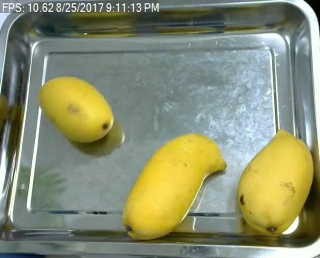Mango: (120, 133, 226, 243), (236, 128, 312, 235), (38, 74, 120, 145)
